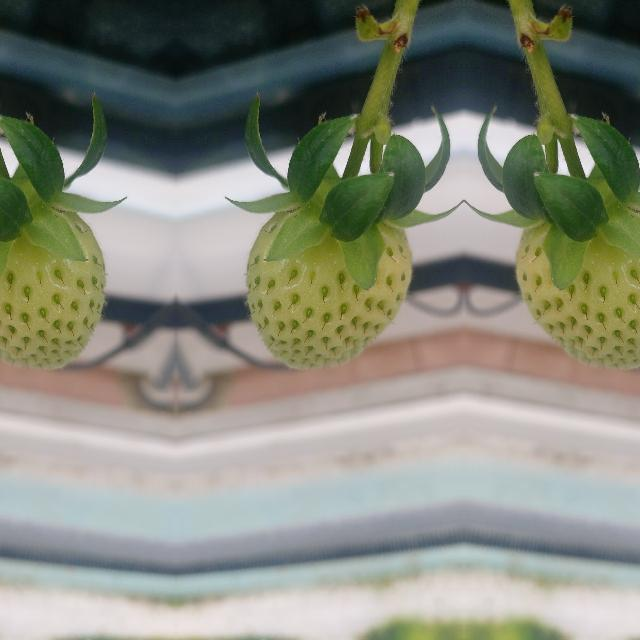Health_25: (245, 211, 410, 369), (515, 211, 640, 369), (0, 211, 104, 369)
